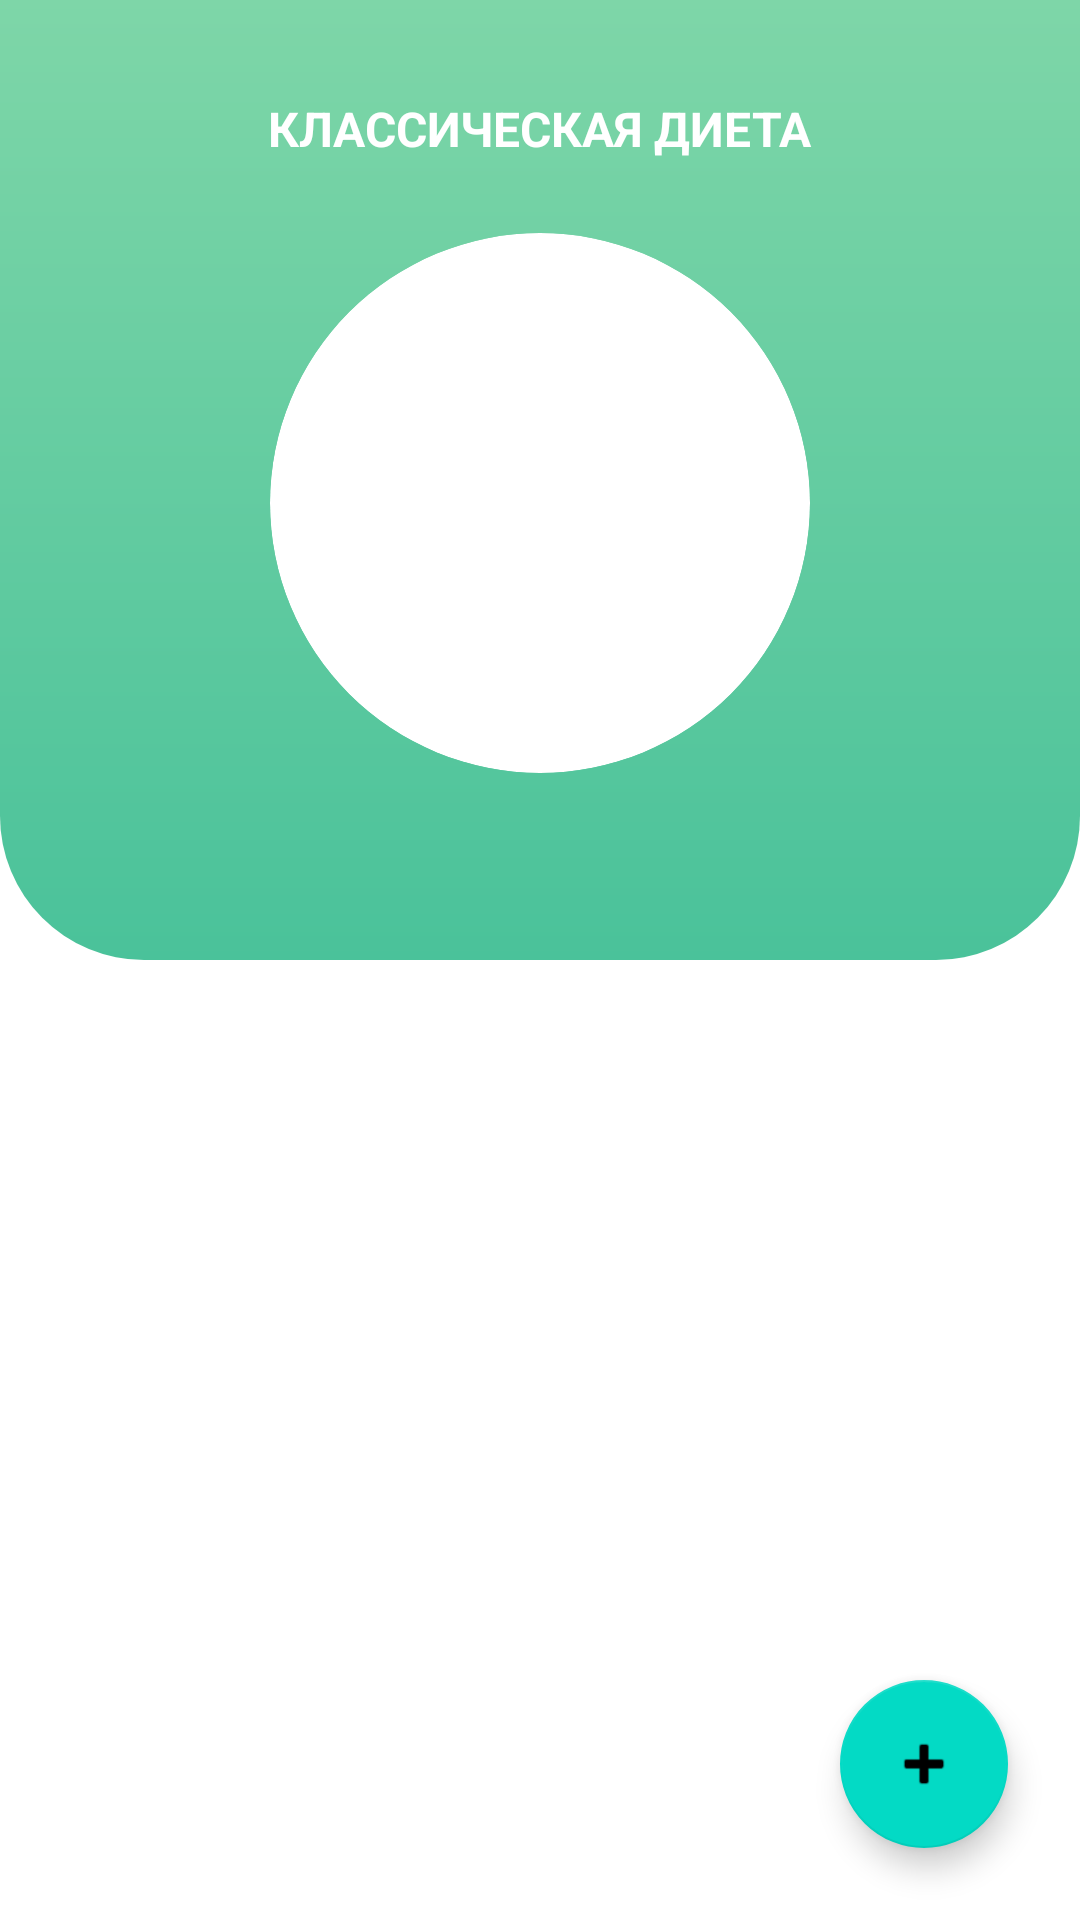

Point at icon controls on the screen. Image size 1080px×1920px, points as (x=x, y=y).
Добавить: (x=924, y=1764)
